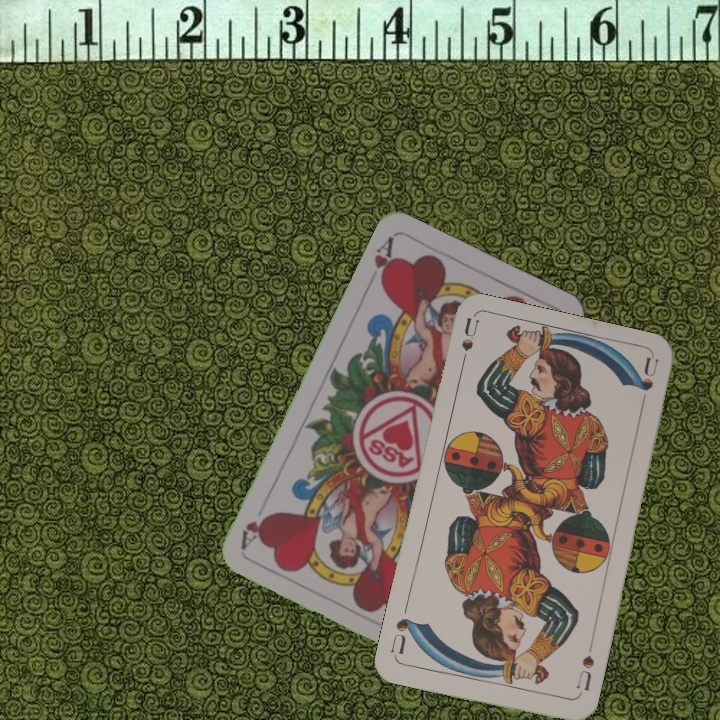HA: (370, 233, 398, 290)
SU: (455, 315, 481, 375), (572, 651, 597, 700)
